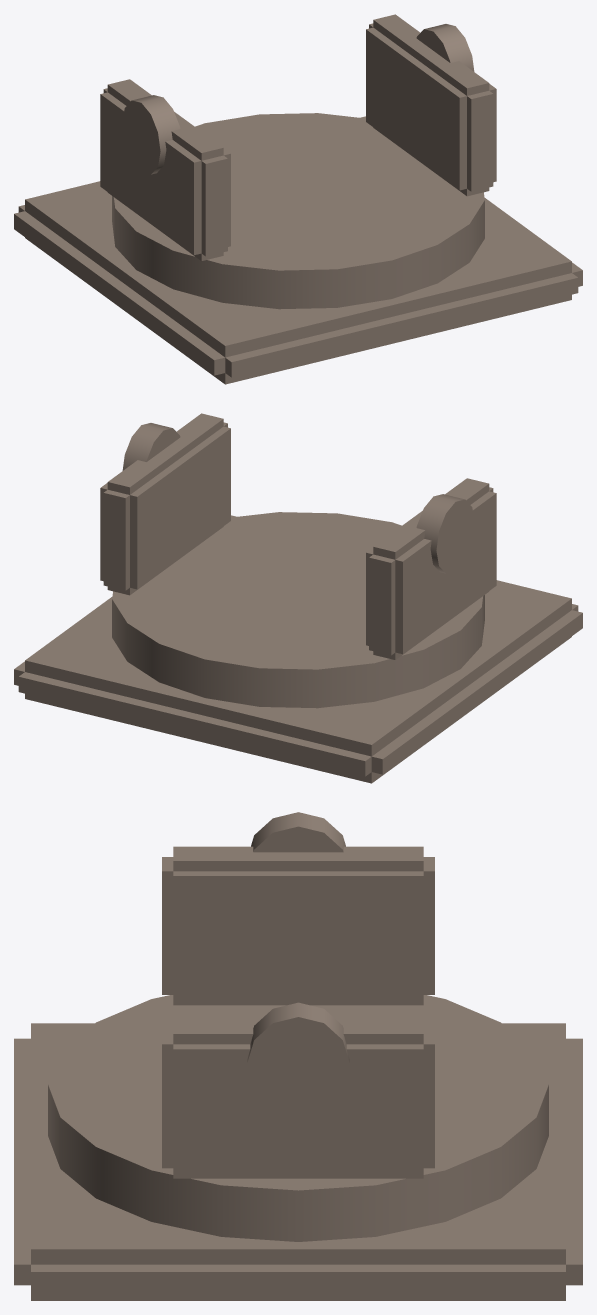
Rendered from cluster_dispenser_mount.glb.
The picture shows the model from 3 angles, top to bottom: view 1: azimuth 30°, elevation 25°; view 2: azimuth 150°, elevation 25°; view 3: azimuth 270°, elevation 25°; orthographic projection. The views are drawn at different scales.
Visible parts, largest first — view 1: cluster_dispenser_mount; view 2: cluster_dispenser_mount; view 3: cluster_dispenser_mount.
Boxes of the visible parts, box(x1,y1,x2,y2) form: cluster_dispenser_mount: box(14, 14, 582, 384); cluster_dispenser_mount: box(14, 413, 582, 783); cluster_dispenser_mount: box(14, 812, 582, 1300).
Size of the model in its own units: 0.5 by 0.265 by 0.5.
